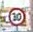limite 30: (7, 7, 25, 25)
